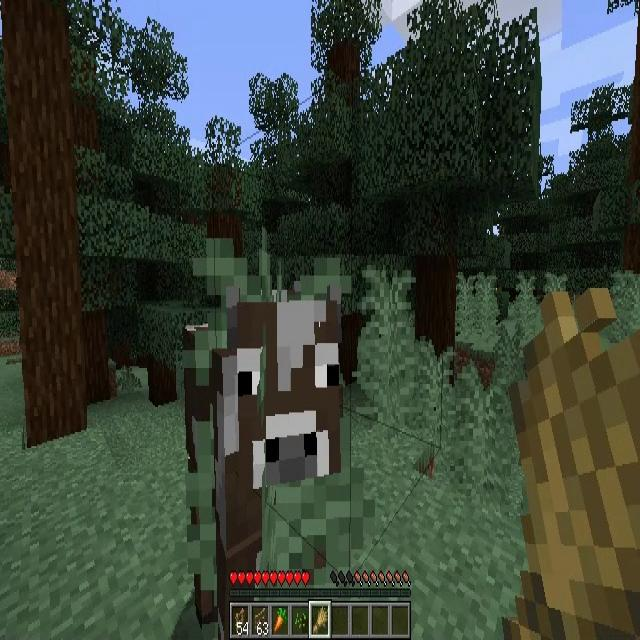cow: (185, 298, 346, 640)
